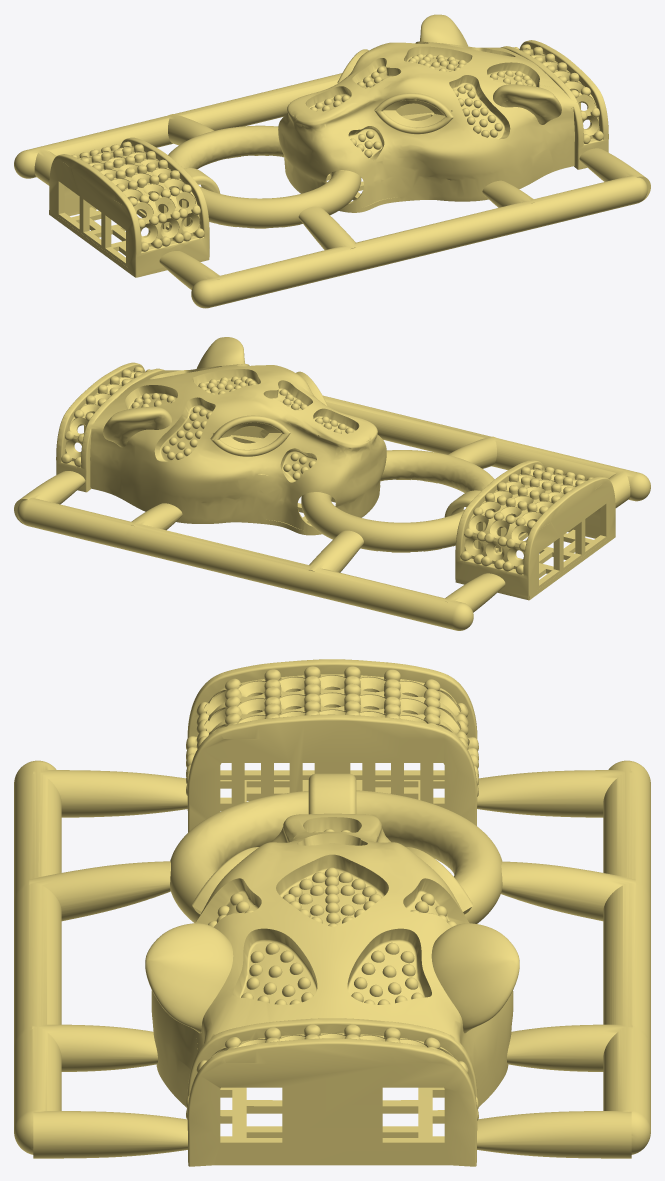
The model's file is kaplan.glb.
The picture shows the model from 3 angles, top to bottom: view 1: azimuth 30°, elevation 25°; view 2: azimuth 150°, elevation 25°; view 3: azimuth 270°, elevation 25°; orthographic projection. The views are drawn at different scales.
Parts seen in each view (by area): view 1: Renderer Node; view 2: Renderer Node; view 3: Renderer Node.
Part boxes in pixels (x1=…): Renderer Node: x1=14, y1=14, x2=650, y2=308; Renderer Node: x1=14, y1=337, x2=650, y2=630; Renderer Node: x1=14, y1=659, x2=650, y2=1166.
Bounding box in the file's own units: 38.46 × 8.67 × 26.95.
